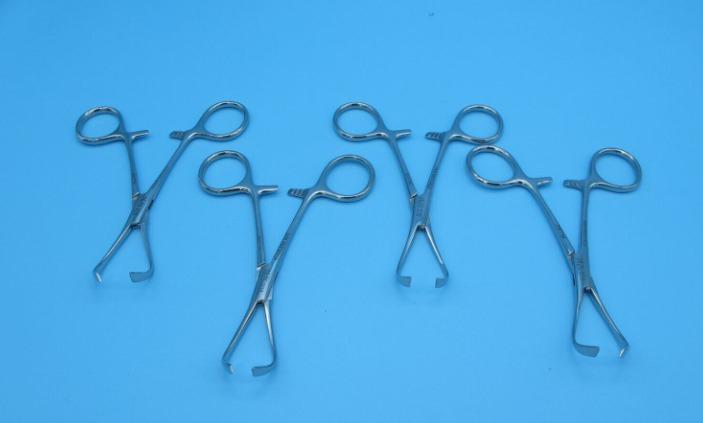Backhaus Towel Clamp: (463, 143, 660, 362), (194, 149, 380, 378), (69, 99, 251, 284), (330, 99, 506, 289)
